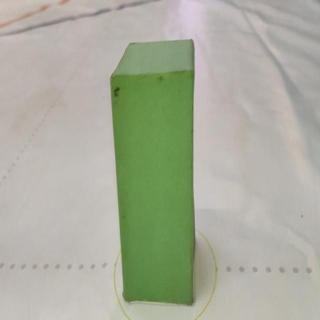greenbox: (108, 39, 199, 305)
